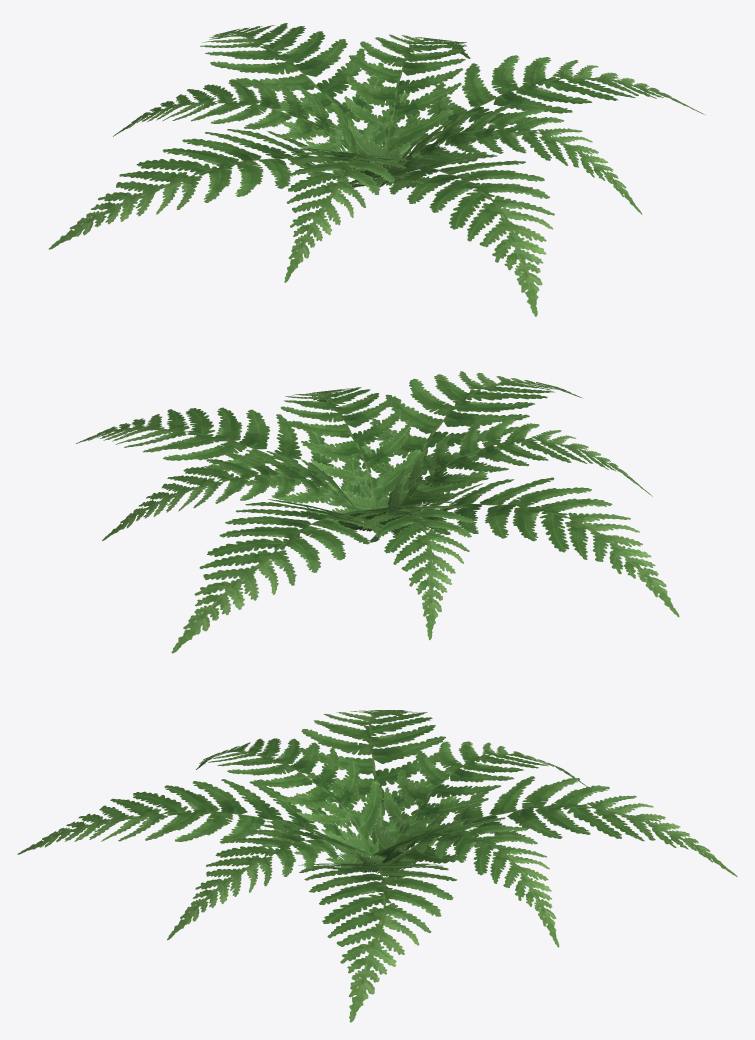
File: fern-01.fbx
3 renders of one model, top to bottom at view 1: azimuth 30°, elevation 25°; view 2: azimuth 150°, elevation 25°; view 3: azimuth 270°, elevation 25°, orthographic.
Visible parts, largest first — view 1: Cylinder.079; view 2: Cylinder.079; view 3: Cylinder.079.
Boxes of the visible parts, box(x1,y1,x2,y2) form: Cylinder.079: box(48, 23, 704, 316); Cylinder.079: box(76, 371, 679, 653); Cylinder.079: box(17, 710, 737, 1022).
Size of the model in its own units: 1.82 by 0.1986 by 1.82.
